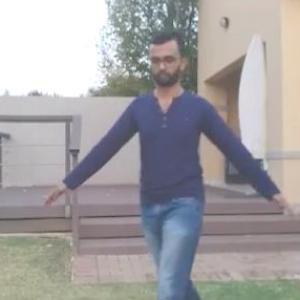land: (73, 38, 295, 299)
